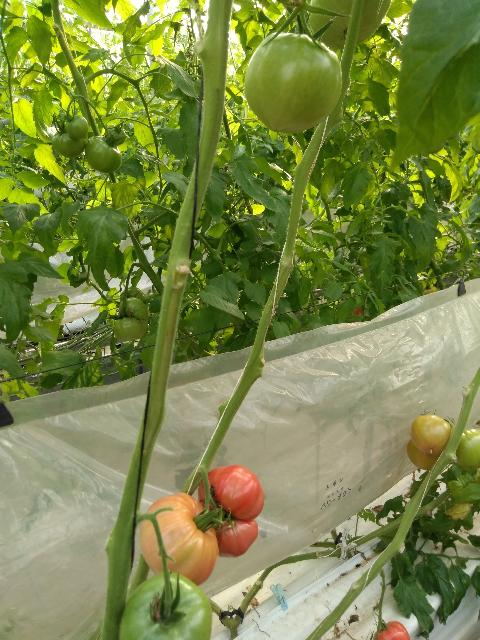b_fully_ripened: (198, 464, 265, 558), (373, 621, 410, 640)
b_green: (244, 31, 342, 133), (119, 572, 213, 640), (309, 0, 391, 50), (114, 297, 149, 342), (85, 135, 122, 173), (452, 428, 480, 471), (52, 127, 88, 159), (120, 287, 148, 311), (65, 114, 89, 139), (105, 124, 127, 145)
b_half_ripened: (140, 492, 218, 587), (410, 415, 451, 454), (407, 438, 442, 470)
